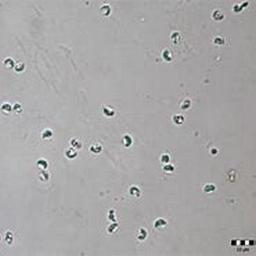Yeast: (88, 141, 104, 155), (68, 136, 83, 150), (232, 1, 249, 13), (102, 105, 117, 118), (121, 133, 134, 148), (161, 48, 174, 63), (210, 9, 226, 21), (40, 128, 54, 141), (0, 101, 13, 115), (64, 147, 78, 160), (179, 97, 193, 110), (153, 217, 168, 229), (202, 183, 218, 194), (136, 227, 148, 241), (99, 4, 113, 16), (37, 171, 52, 182), (170, 31, 181, 46), (12, 101, 24, 114), (36, 157, 49, 169), (128, 185, 141, 197), (3, 57, 15, 70), (213, 35, 227, 46), (172, 115, 187, 125), (159, 152, 171, 164), (107, 223, 119, 234), (15, 60, 25, 73), (161, 164, 176, 172), (108, 209, 116, 222)
